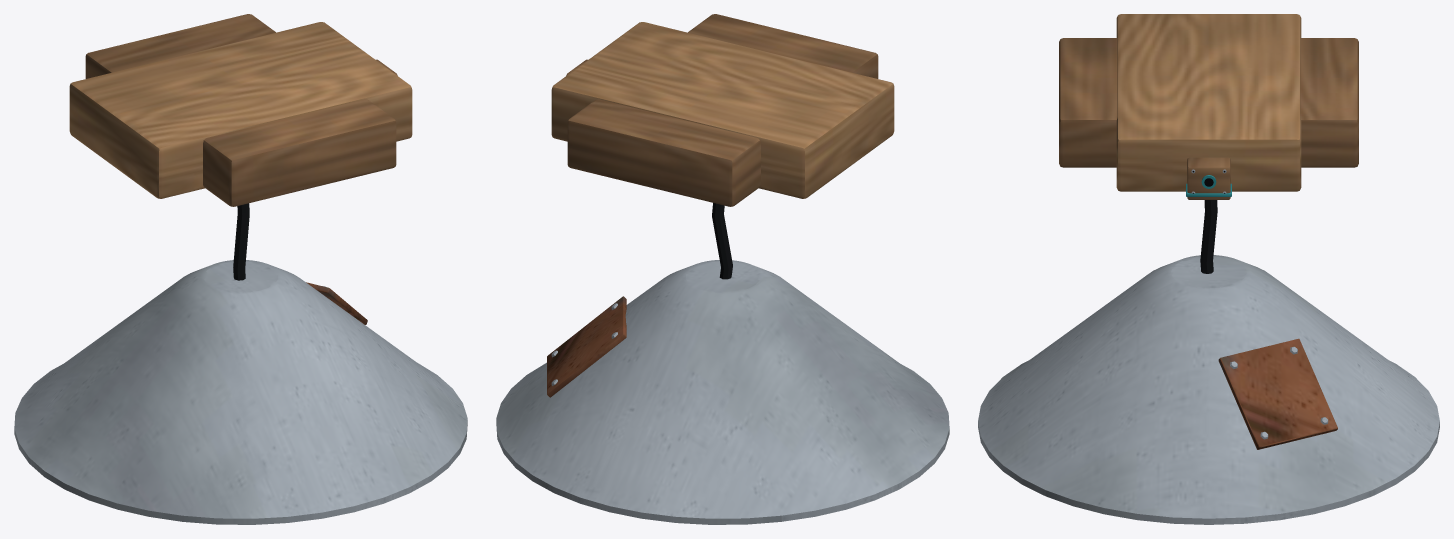
File: shack_light.glb
The picture shows the model from 3 angles, left to right: view 1: azimuth 30°, elevation 25°; view 2: azimuth 150°, elevation 25°; view 3: azimuth 270°, elevation 25°; orthographic projection.
Parts seen in each view (by area): view 1: Body; view 2: Body; view 3: Body.
Part boxes in pixels (<box>): Body: <box>14,14,467,524</box>; Body: <box>496,14,949,524</box>; Body: <box>978,14,1439,524</box>.
Size of the model in its own units: 0.4 by 0.367 by 0.4.
Materials: 12 (6 with a texture image).
